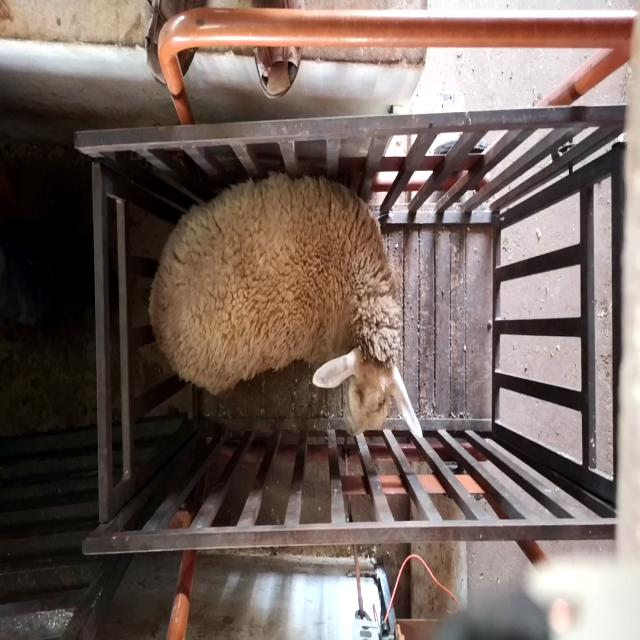sheep: (147, 171, 424, 437)
